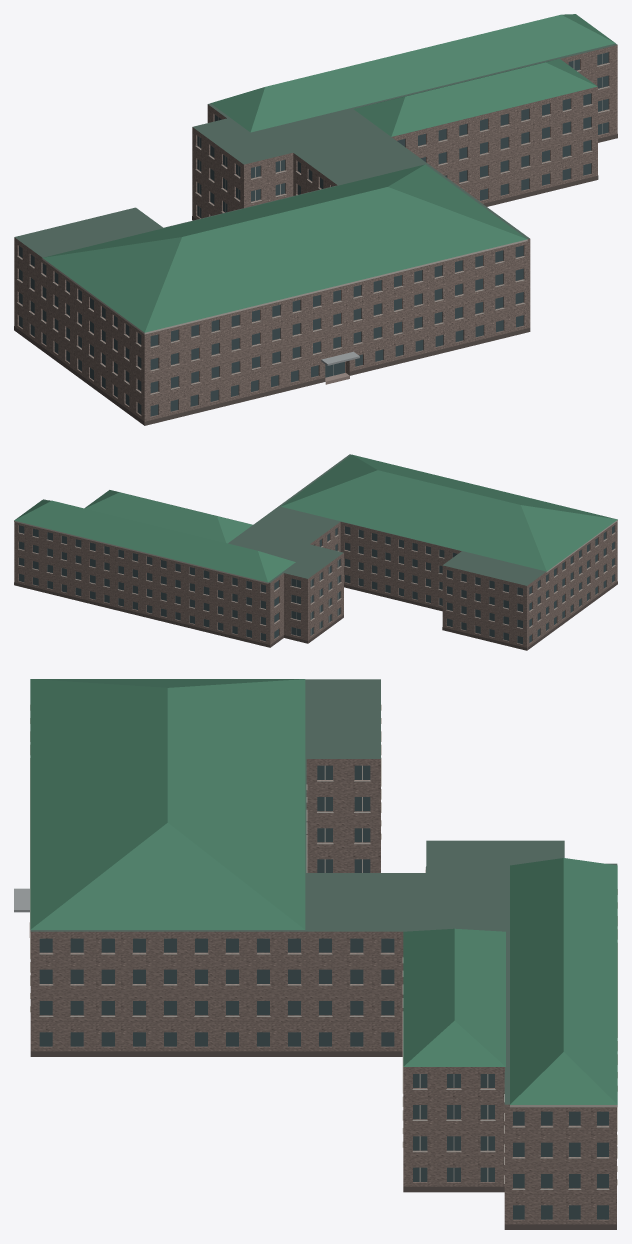
3 views of the same model, one above another, from view 1: azimuth 30°, elevation 25°; view 2: azimuth 150°, elevation 25°; view 3: azimuth 270°, elevation 25° (orthographic). The views are drawn at different scales.
Parts seen in each view (by area): view 1: mohyeon-468432125__roofAccent, mohyeon-468432125__wall, mohyeon-468432125__glass, mohyeon-468432125__roof, mohyeon-468432125__base, mohyeon-468432125__trim; view 2: mohyeon-468432125__wall, mohyeon-468432125__roofAccent, mohyeon-468432125__glass, mohyeon-468432125__roof, mohyeon-468432125__base, mohyeon-468432125__trim; view 3: mohyeon-468432125__roofAccent, mohyeon-468432125__wall, mohyeon-468432125__roof, mohyeon-468432125__glass, mohyeon-468432125__base, mohyeon-468432125__trim.
Boxes of the visible parts, box(x1,y1,x2,y2) form: mohyeon-468432125__roofAccent: box(42, 14, 615, 332); mohyeon-468432125__wall: box(14, 45, 617, 425); mohyeon-468432125__glass: box(19, 52, 608, 416); mohyeon-468432125__roof: box(14, 43, 617, 257); mohyeon-468432125__base: box(14, 134, 617, 425); mohyeon-468432125__trim: box(17, 63, 609, 394); mohyeon-468432125__wall: box(14, 521, 617, 650); mohyeon-468432125__roofAccent: box(14, 454, 617, 582); mohyeon-468432125__glass: box(19, 525, 614, 644); mohyeon-468432125__roof: box(42, 454, 546, 585); mohyeon-468432125__base: box(14, 581, 617, 650); mohyeon-468432125__trim: box(14, 520, 617, 628); mohyeon-468432125__roofAccent: box(30, 679, 617, 1104); mohyeon-468432125__wall: box(30, 759, 616, 1224); mohyeon-468432125__roof: box(30, 679, 617, 1104); mohyeon-468432125__glass: box(39, 765, 608, 1219); mohyeon-468432125__base: box(30, 1051, 617, 1229); mohyeon-468432125__trim: box(30, 704, 617, 1189).
Bounding box in the file's own units: 96.47 × 18.8 × 57.8.
Materials: 10 (1 with a texture image).
